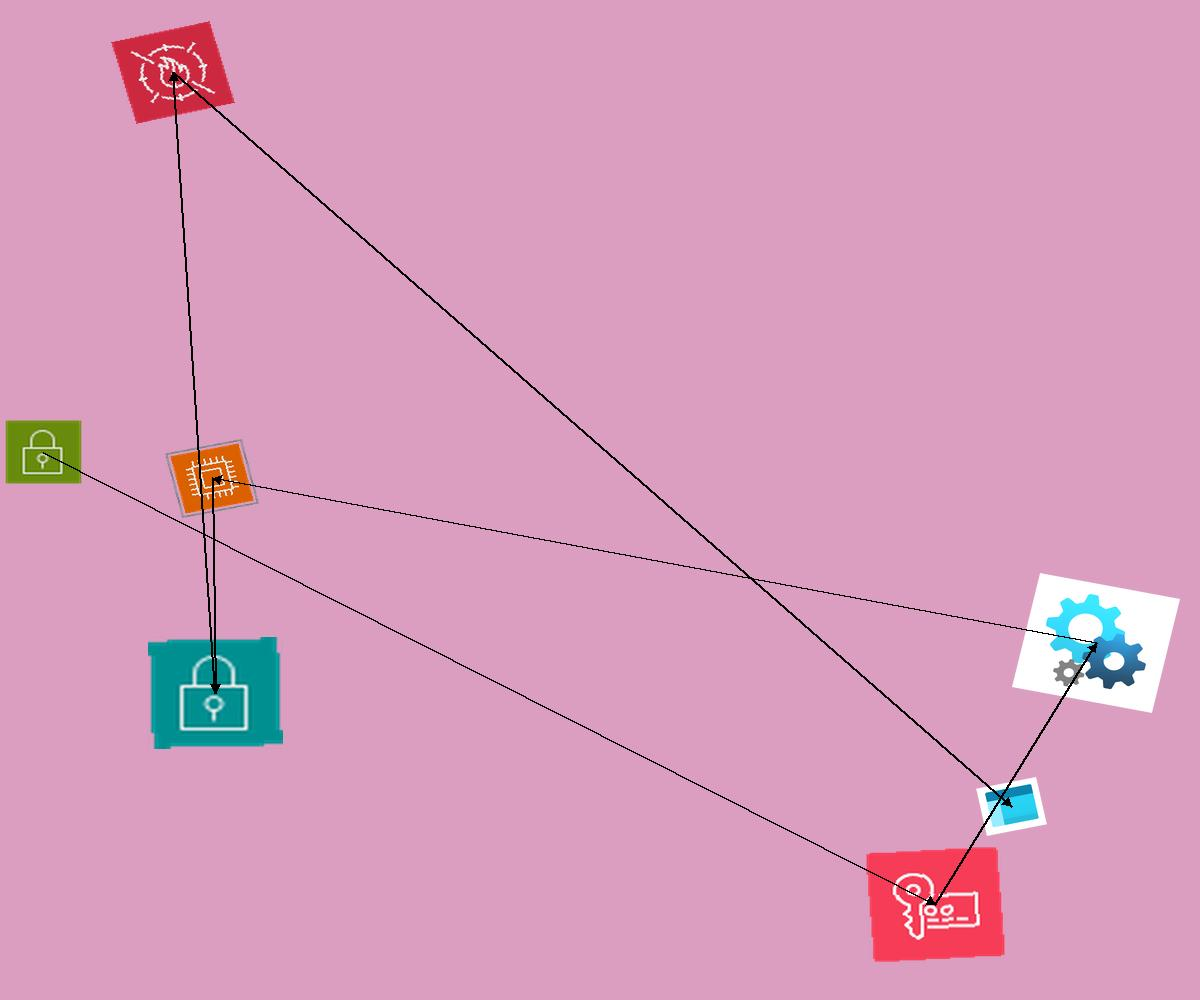AWS-Category_Compute: (165, 439, 259, 518)
AWS-Key-Management-Service: (865, 846, 1006, 963)
AWS-Private-subnet: (148, 637, 283, 749)
AWS-Public-subnet: (4, 419, 83, 485)
AWS-WAF: (111, 21, 235, 124)
Azure_api: (1012, 573, 1180, 713)
Azure_management-portal: (976, 777, 1047, 836)
